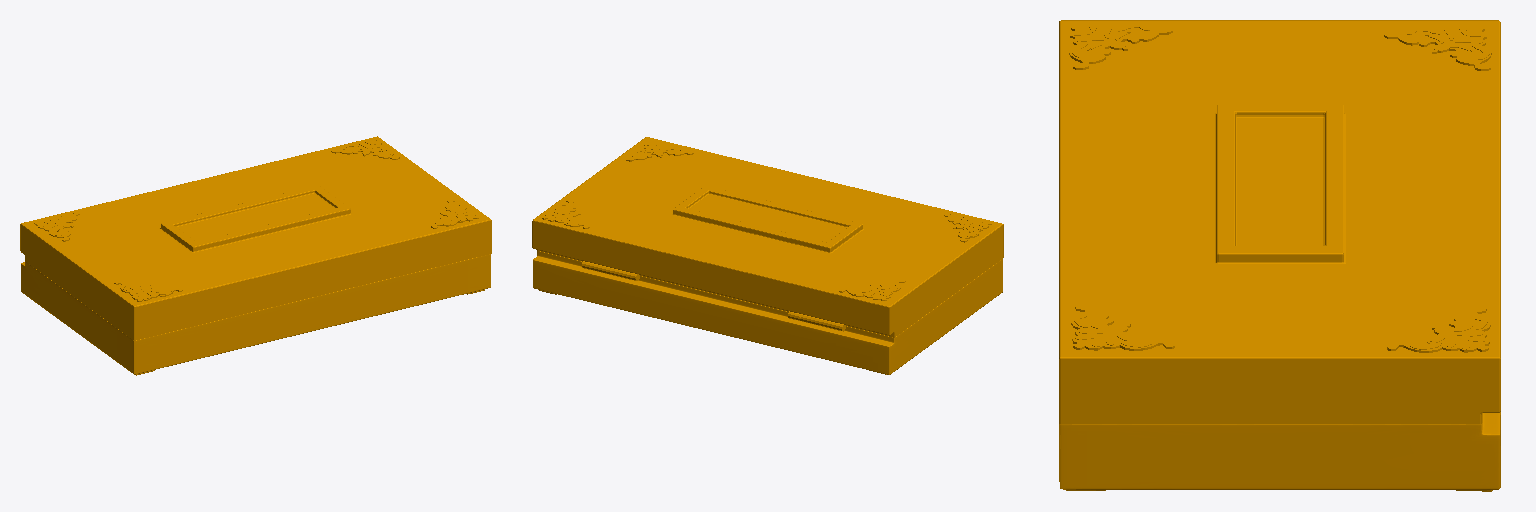
The robot description file, URDF, robot "JewelleryBox":
<?xml version="1.0"?>
<robot name="JewelleryBox">
  <link name="JewelleryBox">
    <visual>
      <origin xyz="0.0 0.0 0.0" rpy="1.5708 0.0 0.0"/>
      <geometry>
        <mesh filename="JewelleryBox.obj" scale="0.03 0.03 0.03"/>
      </geometry>
    </visual>
    <collision>
      <origin xyz="0.0 0.0 0.0" rpy="1.5708 0.0 0.0"/>
      <geometry>
        <mesh filename="JewelleryBox.obj" scale="0.03 0.03 0.03"/>
      </geometry>
    </collision>
    <inertial>
      <mass value="0.5"/>
      <inertia ixx="0.0001" ixy="0.0" ixz="0.0" iyy="0.0001" iyz="0.0" izz="0.0001"/>
    </inertial>
  </link>
</robot>

--- Facts derived from the render (not from the file) ---
3 views of the same robot in one strip: view 1: azimuth 30°, elevation 25°; view 2: azimuth 150°, elevation 25°; view 3: azimuth 270°, elevation 25° (orthographic).
Robot: JewelleryBox — 1 links, 0 joints (none); root link JewelleryBox; default pose: all joints at 0.
Visible links, largest first — view 1: JewelleryBox; view 2: JewelleryBox; view 3: JewelleryBox.
Boxes of the visible links, x1=… form: JewelleryBox: x1=20, y1=136, x2=491, y2=375; JewelleryBox: x1=532, y1=137, x2=1003, y2=374; JewelleryBox: x1=1059, y1=20, x2=1500, y2=491.
Bounding box of the posed robot: 0.639 × 0.3533 × 0.131 m (x, y, z).
Meshes: 1 distinct files referenced, 1 mesh visuals loaded (1 OBJ).